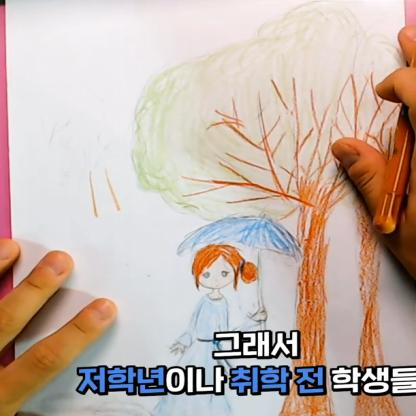branch_line: (178, 80, 327, 214)
crown_cloud: (131, 7, 327, 220)
trunk_straight: (289, 224, 330, 329)
